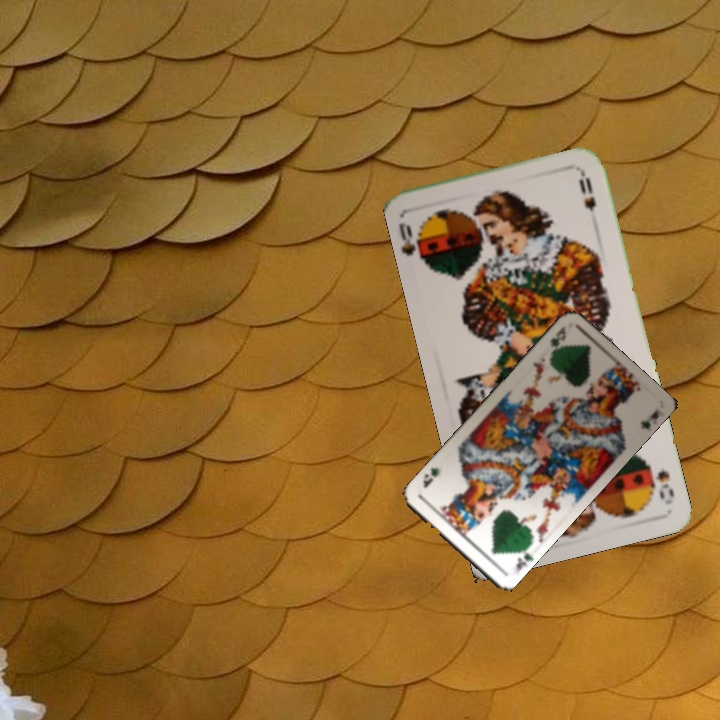GK: (546, 322, 569, 358), (512, 542, 535, 574)
SO: (394, 219, 432, 268), (645, 461, 677, 508)
